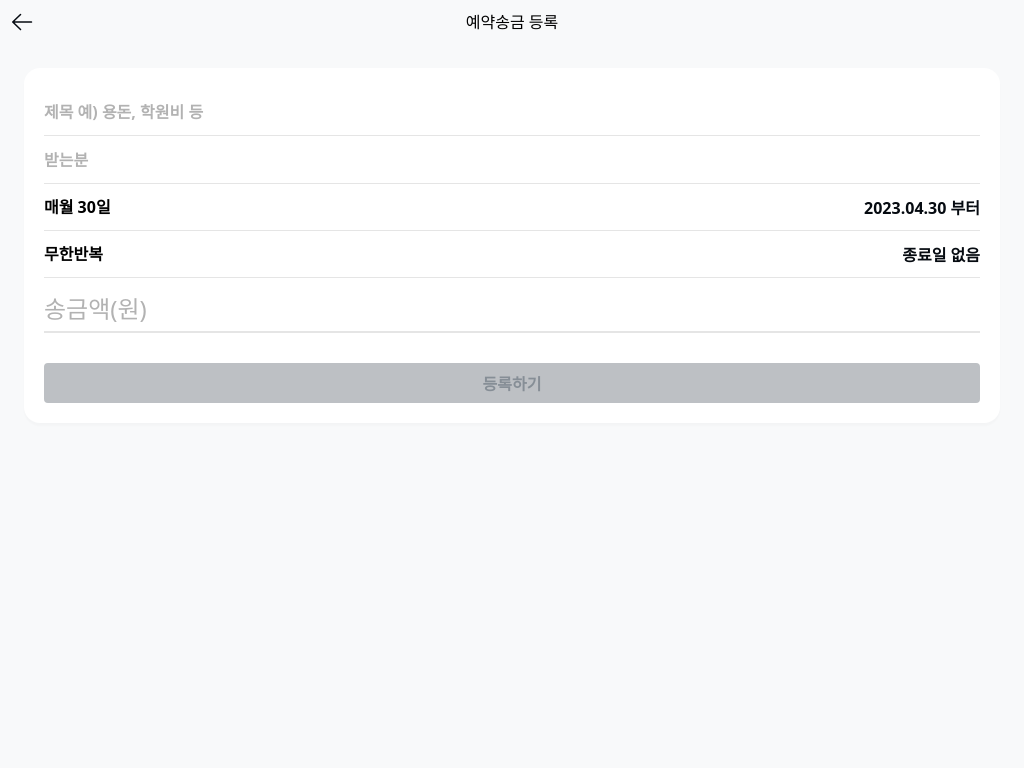
Scenario: 송금등록화면 은행선택
Expected: the navigation bar is shown, [0,0,1023,44]
Click the field with placeholder "받는분" at (512, 160), box [44,136,980,183]
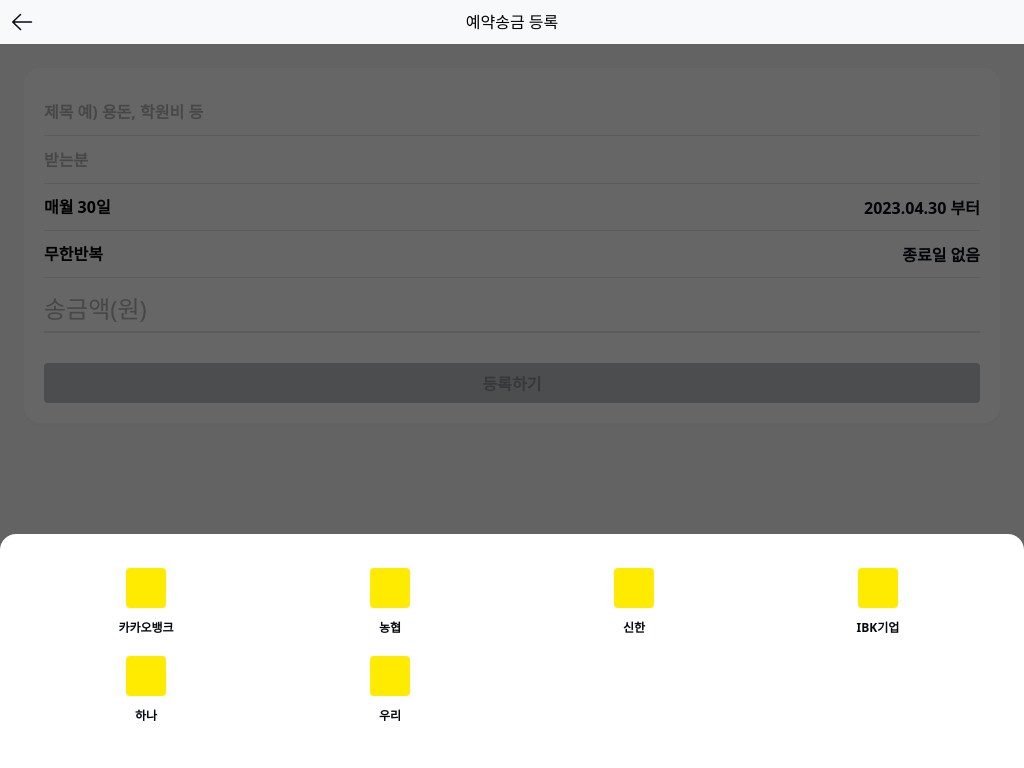
Expected: the field with placeholder "계좌번호" is not shown
Click the button "카카오뱅크" at (146, 602), box [118,568,174,636]
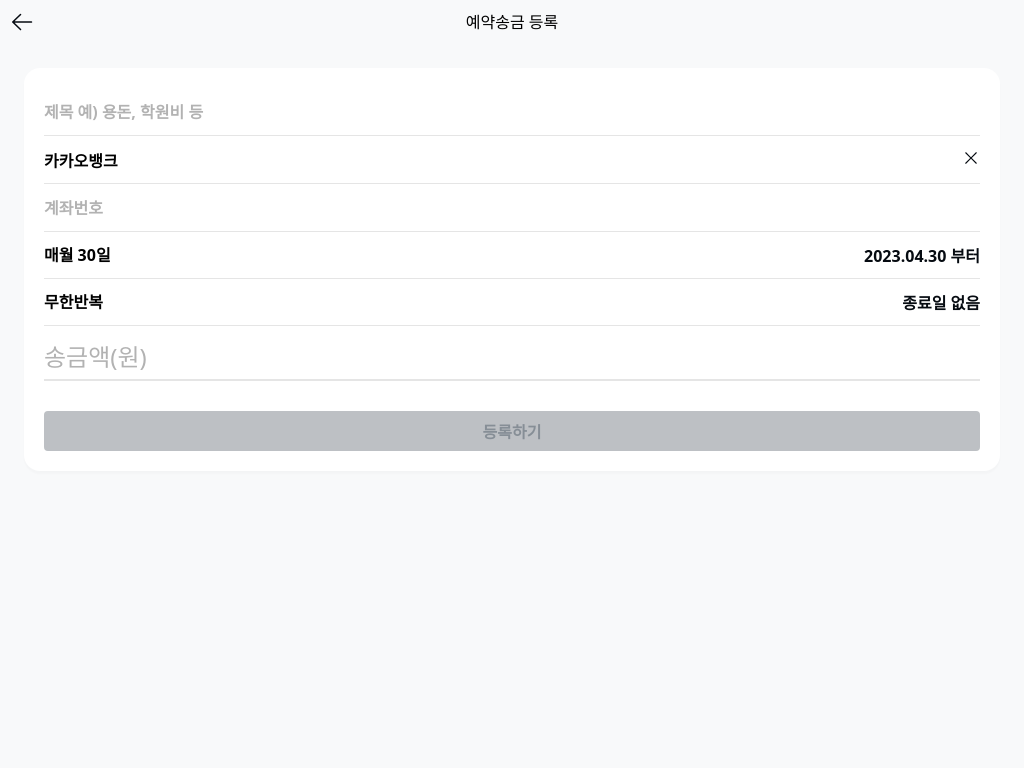
Expected: the field with placeholder "계좌번호" is shown, [44,184,980,231]
